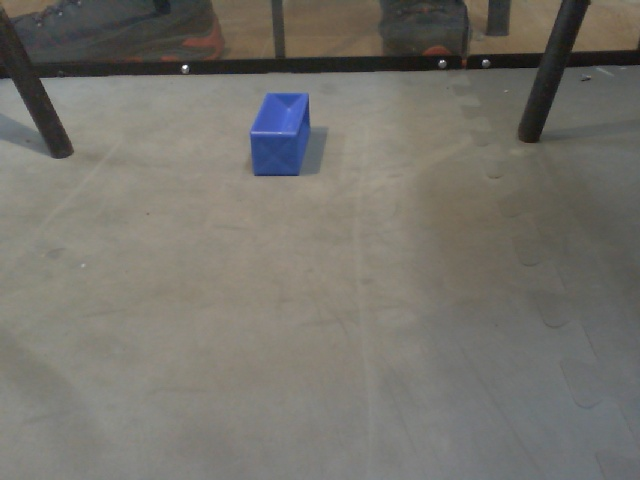BlueSample: (246, 91, 312, 179)
